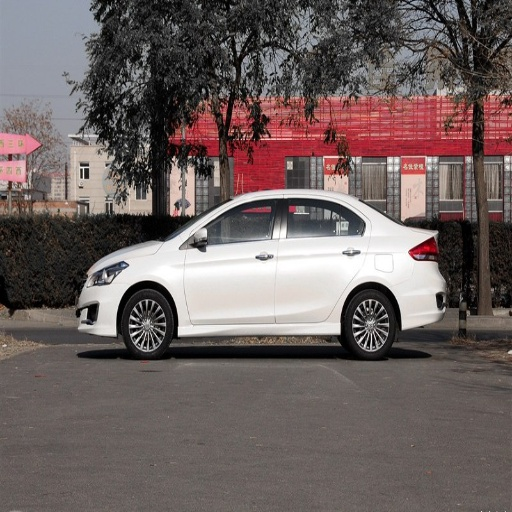back_left_door: (275, 197, 368, 320)
front_left_door: (184, 198, 283, 324)
